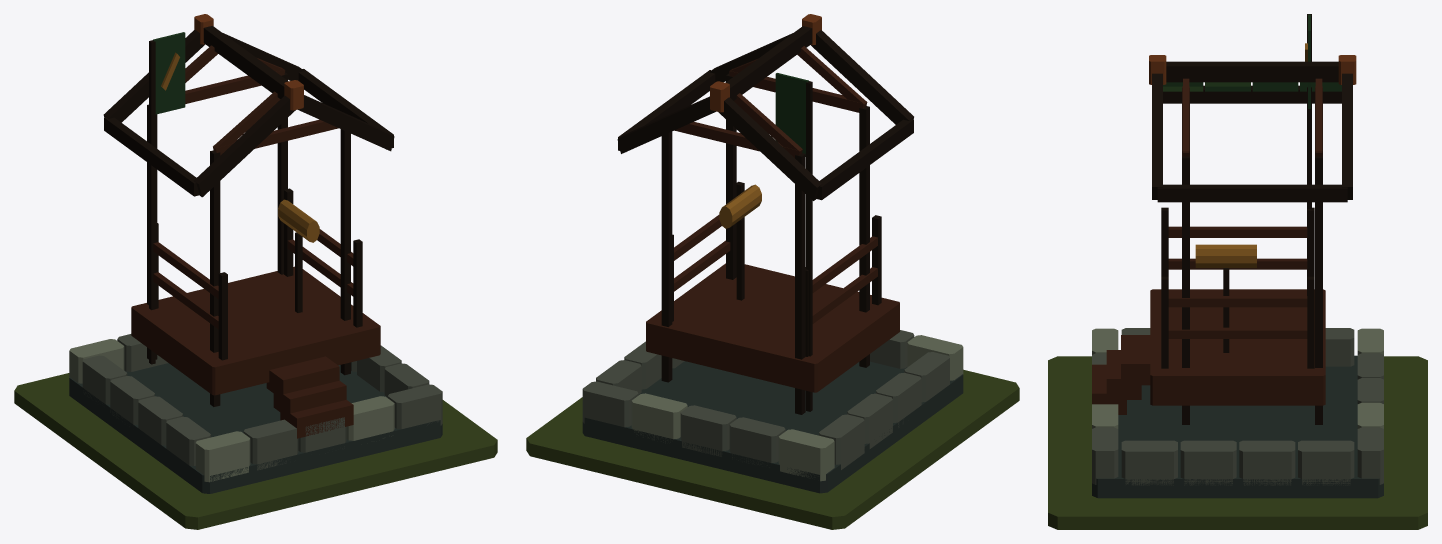
Rendered from scout_post_t2.glb.
3 views of the same model, side by side, from view 1: azimuth 30°, elevation 25°; view 2: azimuth 150°, elevation 25°; view 3: azimuth 270°, elevation 25° (orthographic). The views are drawn at different scales.
Parts seen in each view (by area): view 1: MMR | scout_post | T02 Architecture.001, MMR | scout_post | Tier 02 Ground.001; view 2: MMR | scout_post | T02 Architecture.001, MMR | scout_post | Tier 02 Ground.001; view 3: MMR | scout_post | T02 Architecture.001, MMR | scout_post | Tier 02 Ground.001.
Part boxes in pixels (x1=…): MMR | scout_post | T02 Architecture.001: x1=69, y1=14, x2=442, y2=493; MMR | scout_post | Tier 02 Ground.001: x1=14, y1=373, x2=497, y2=529; MMR | scout_post | T02 Architecture.001: x1=582, y1=14, x2=963, y2=493; MMR | scout_post | Tier 02 Ground.001: x1=526, y1=369, x2=1019, y2=529; MMR | scout_post | T02 Architecture.001: x1=1092, y1=14, x2=1383, y2=498; MMR | scout_post | Tier 02 Ground.001: x1=1048, y1=356, x2=1427, y2=529.
Size of the model in its own units: 1.3 by 1.51 by 1.3.
1 material, 1 textured.
